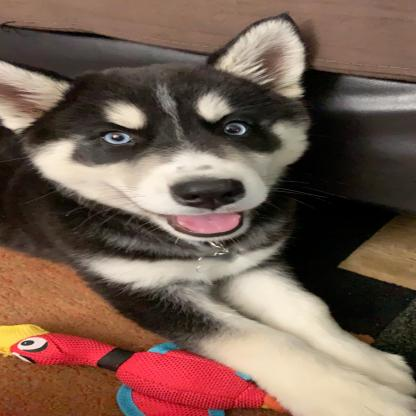husky: (0, 14, 409, 416)
